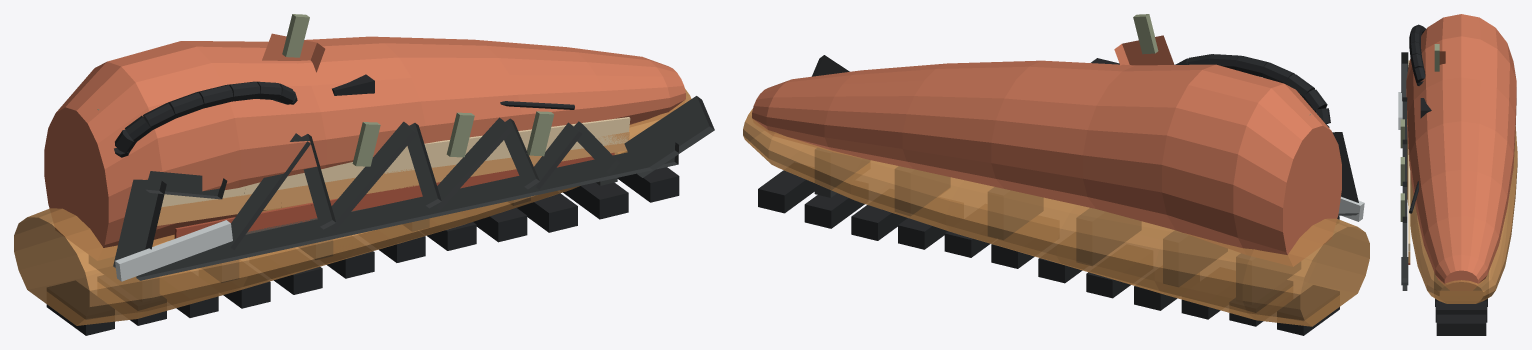
File: salomon-terraforma-sneaker.glb
The picture shows the model from 3 angles, left to right: view 1: azimuth 30°, elevation 25°; view 2: azimuth 150°, elevation 25°; view 3: azimuth 270°, elevation 25°; orthographic projection. The views are drawn at different scales.
Visible parts, largest first — view 1: Salomon_Terraforma_Sneaker; view 2: Salomon_Terraforma_Sneaker; view 3: Salomon_Terraforma_Sneaker.
Boxes of the visible parts, x1,y1,x2,y2 form: Salomon_Terraforma_Sneaker: (14,14,714,335); Salomon_Terraforma_Sneaker: (743,14,1369,335); Salomon_Terraforma_Sneaker: (1398,14,1517,335).
Bounding box in the file's own units: 4.33 × 1.84 × 1.13.
